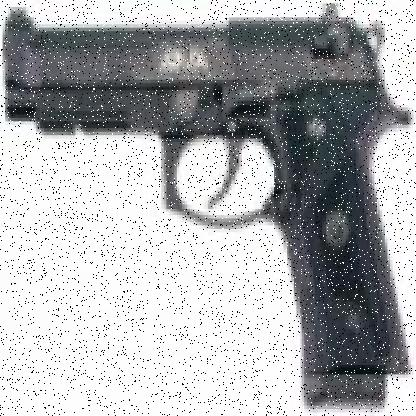pistol: (8, 7, 408, 374)
